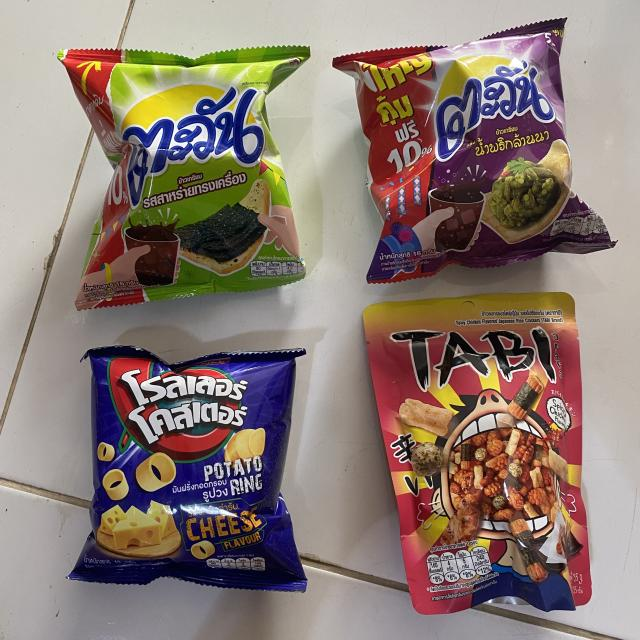plastik: (334, 19, 615, 282), (364, 292, 590, 614), (59, 46, 310, 310), (69, 346, 306, 590)
